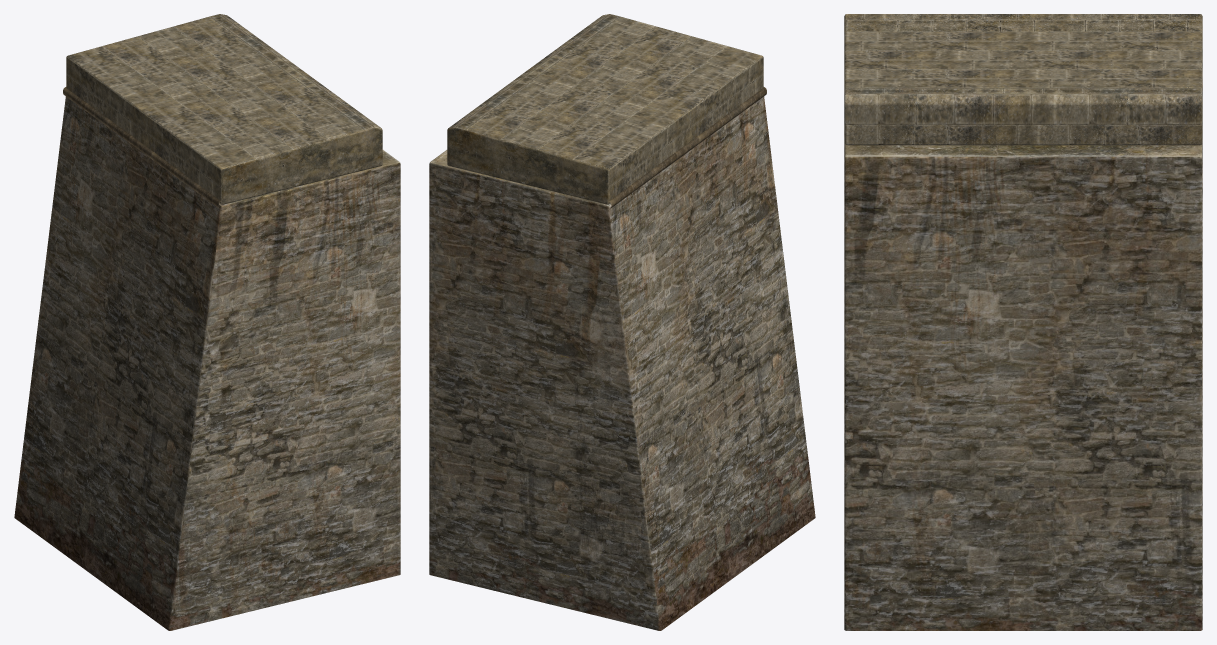
The model's file is modular_fort_01_wall_thick_end_01.gltf.
3 renders of one model, left to right at view 1: azimuth 30°, elevation 25°; view 2: azimuth 150°, elevation 25°; view 3: azimuth 270°, elevation 25°, orthographic. The views are drawn at different scales.
Visible parts, largest first — view 1: modular_fort_01_wall_thick_end_01__x; view 2: modular_fort_01_wall_thick_end_01__x; view 3: modular_fort_01_wall_thick_end_01__x.
Boxes of the visible parts, x1,y1,x2,y2 form: modular_fort_01_wall_thick_end_01__x: (14, 14, 400, 630); modular_fort_01_wall_thick_end_01__x: (429, 14, 815, 630); modular_fort_01_wall_thick_end_01__x: (844, 14, 1202, 630).
Size of the model in its own units: 4.17 by 7.79 by 4.85.
2 materials, 2 textured.
